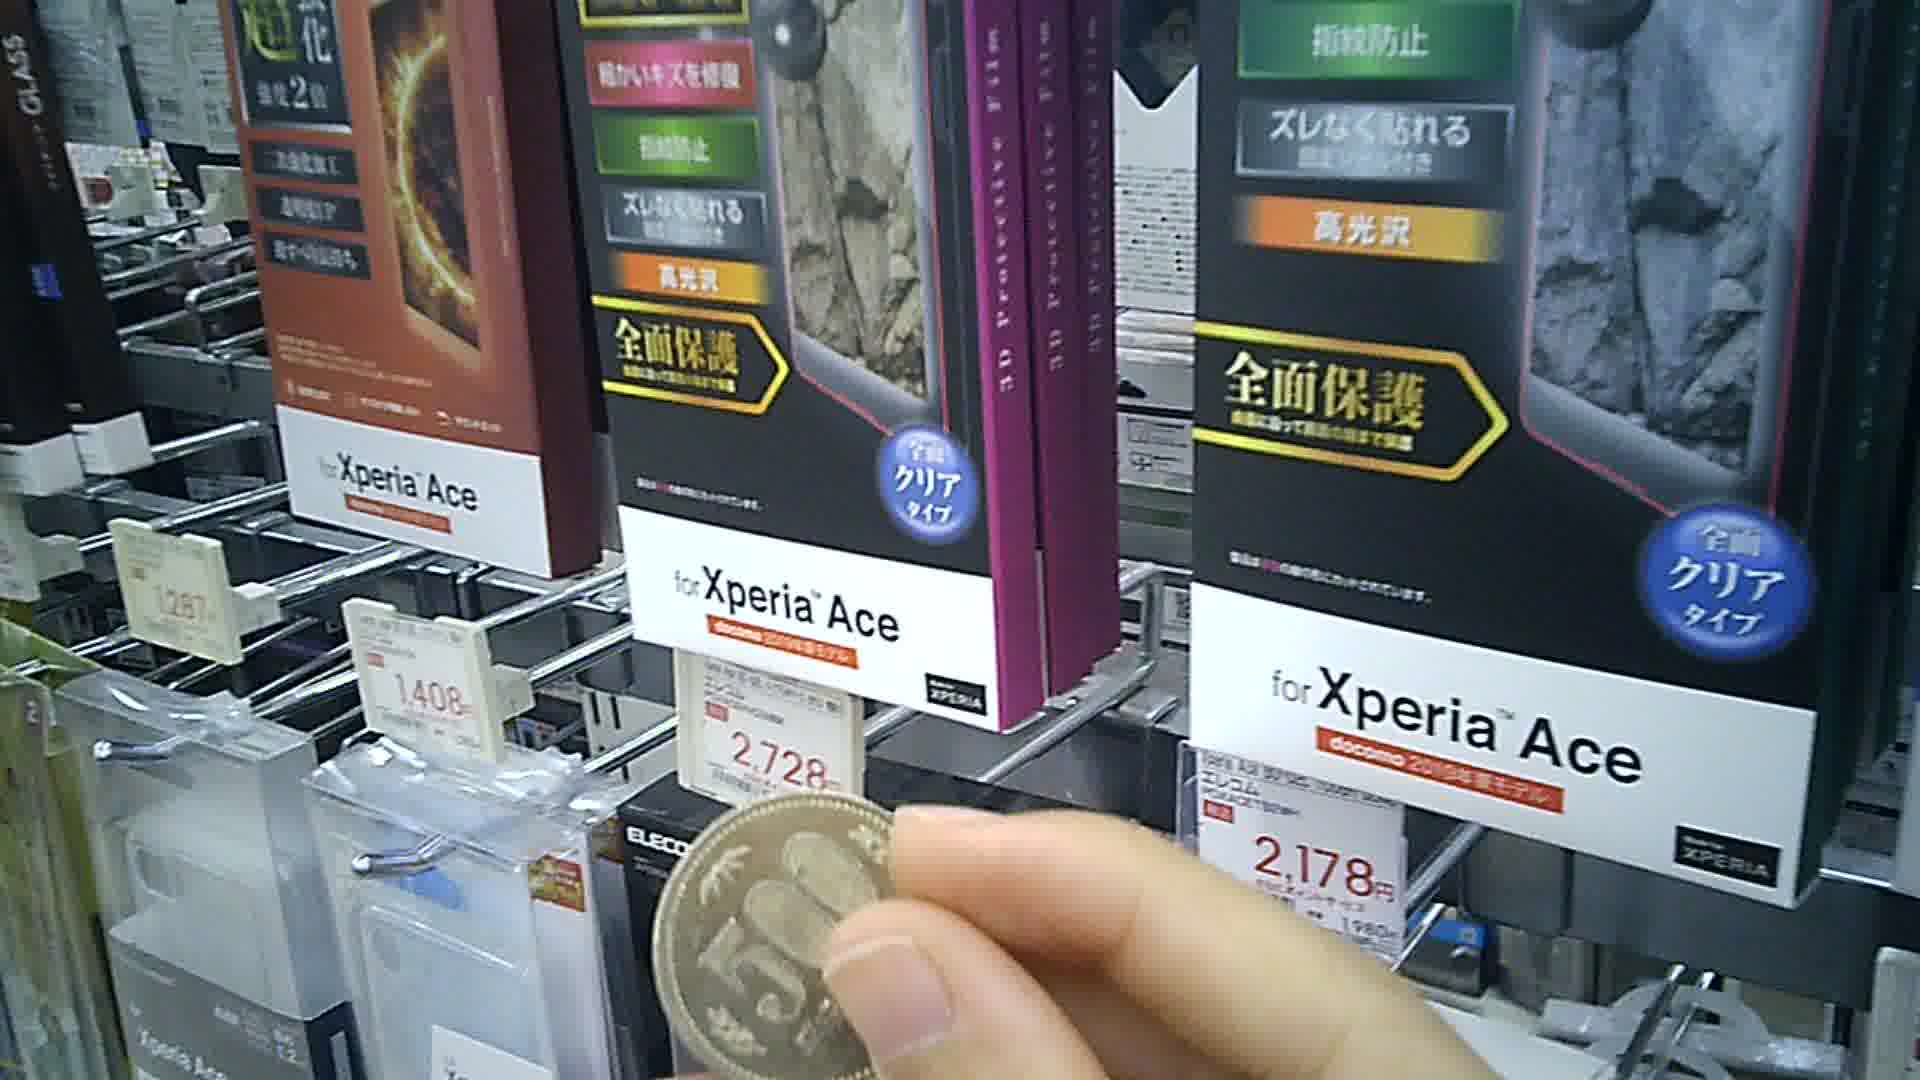500 Yen: (647, 793, 947, 1079)
